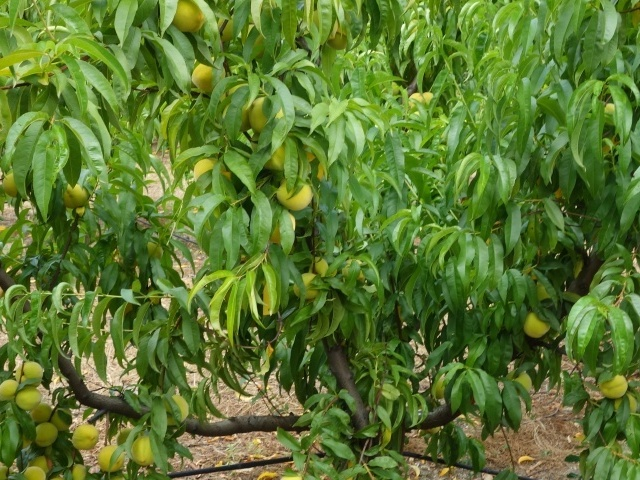peach: (244, 96, 289, 135), (186, 58, 231, 93), (273, 177, 314, 214), (166, 1, 208, 33), (261, 141, 295, 178), (125, 435, 161, 469), (521, 307, 555, 342), (56, 180, 90, 213), (161, 392, 194, 426), (596, 367, 629, 400), (67, 422, 102, 453), (14, 359, 45, 392), (93, 445, 127, 475), (325, 22, 355, 56), (292, 271, 325, 301), (29, 420, 60, 450), (504, 366, 536, 395), (190, 153, 221, 181), (14, 385, 44, 413), (306, 253, 334, 281), (612, 389, 639, 418), (49, 406, 76, 433), (27, 401, 53, 428), (1, 171, 24, 199), (113, 427, 138, 450), (15, 463, 48, 479)
